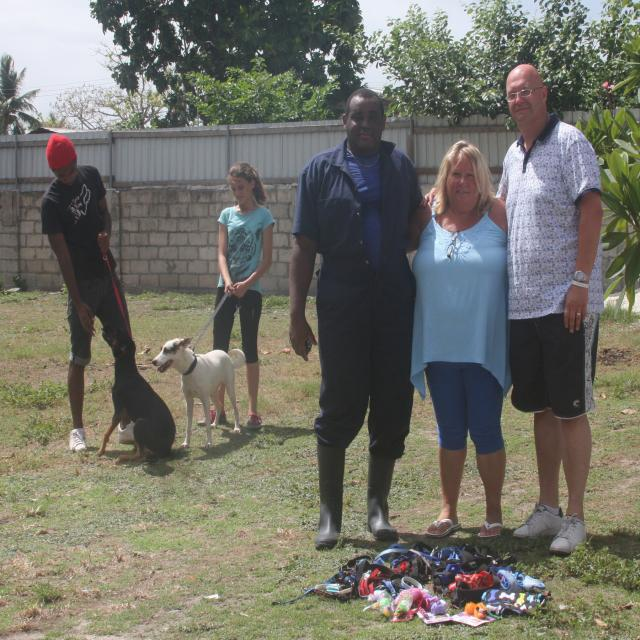body: (420, 63, 602, 556), (287, 84, 434, 555), (409, 140, 513, 540), (38, 132, 156, 454), (195, 161, 278, 433)
